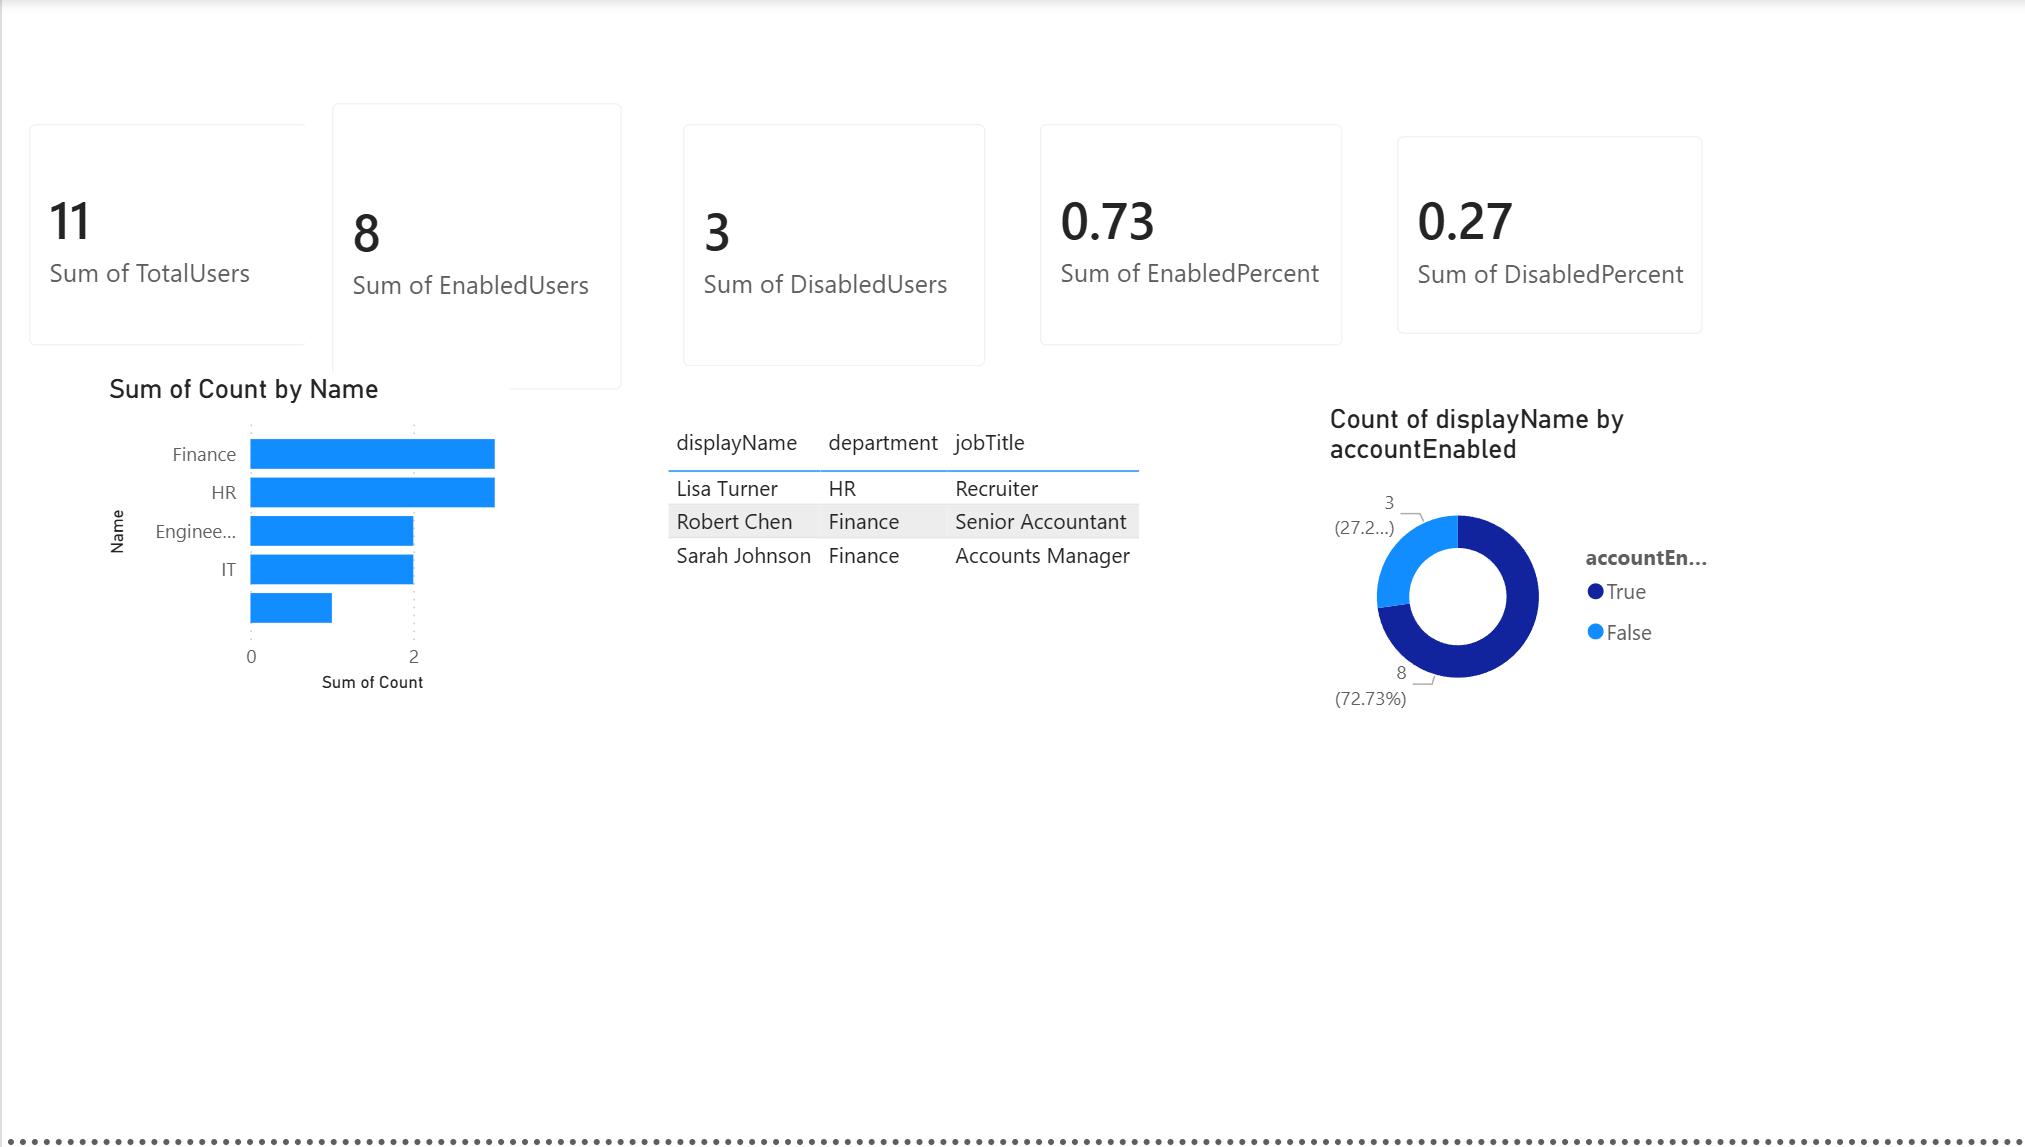

The page's visual inventory and layout, read from the dashboard file:
{"tool":"powerbi","page":{"name":"IAM Dashboard","canvas":[1280,720],"ordinal":0},"visuals":[{"type":"cardVisual","fields":{"Data":["Sum(EntraID_KPI_Summary.TotalUsers)"]},"box":[0,62.5,210.2,174.2],"z":0},{"type":"cardVisual","fields":{"Data":["Sum(EntraID_KPI_Summary.EnabledUsers)"]},"box":[191.2,49.2,217.8,215.9],"z":1000},{"type":"cardVisual","fields":{"Data":["Sum(EntraID_KPI_Summary.DisabledUsers)"]},"box":[412.8,62.5,225.3,187.5],"z":2000},{"type":"cardVisual","fields":{"Data":["Sum(EntraID_KPI_Summary.EnabledPercent)"]},"box":[638.1,62.5,225.3,174.2],"z":3000},{"type":"cardVisual","fields":{"Data":["Sum(EntraID_KPI_Summary.DisabledPercent)"]},"box":[863.4,70.1,227.2,159.1],"z":4000},{"type":"clusteredBarChart","fields":{"Y":["Sum(EntraID_Department_Breakdown.Count)"],"Category":["EntraID_Department_Breakdown.Name"]},"box":[62.5,236.7,257.5,206.4],"z":5000},{"type":"tableEx","fields":{"Values":["EntraID_Disabled_Accounts.displayName","EntraID_Disabled_Accounts.department","EntraID_Disabled_Accounts.jobTitle"]},"box":[414.7,265.1,320,189.3],"z":6000},{"type":"donutChart","fields":{"Category":["EntraID_User_Inventory.accountEnabled"],"Y":["CountNonNull(EntraID_User_Inventory.displayName)"]},"box":[833.1,255.6,257.5,206.4],"z":6001}]}

Visuals, with their boxes in screenshot pixels (x1, y1, x2, y2), scaled from the page's 1280x720 canvas onto the 2025x1147 screenshot:
cardVisual - Sum(EntraID_KPI_Summary.TotalUsers): pyautogui.locateOnScreen(0, 100, 333, 377)
cardVisual - Sum(EntraID_KPI_Summary.EnabledUsers): pyautogui.locateOnScreen(302, 78, 647, 422)
cardVisual - Sum(EntraID_KPI_Summary.DisabledUsers): pyautogui.locateOnScreen(653, 100, 1009, 398)
cardVisual - Sum(EntraID_KPI_Summary.EnabledPercent): pyautogui.locateOnScreen(1009, 100, 1366, 377)
cardVisual - Sum(EntraID_KPI_Summary.DisabledPercent): pyautogui.locateOnScreen(1366, 112, 1725, 365)
clusteredBarChart - Sum(EntraID_Department_Breakdown.Count) x EntraID_Department_Breakdown.Name: pyautogui.locateOnScreen(99, 377, 506, 706)
tableEx - EntraID_Disabled_Accounts.displayName x EntraID_Disabled_Accounts.department: pyautogui.locateOnScreen(656, 422, 1162, 724)
donutChart - EntraID_User_Inventory.accountEnabled x CountNonNull(EntraID_User_Inventory.displayName): pyautogui.locateOnScreen(1318, 407, 1725, 736)
